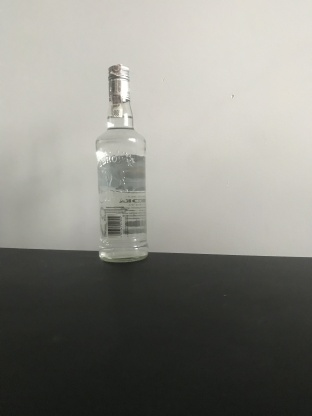nakretka: (106, 61, 132, 102)
